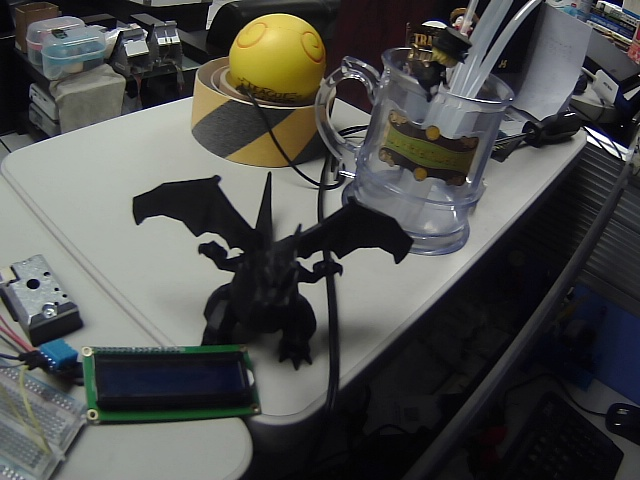charizard: (108, 145, 450, 393)
